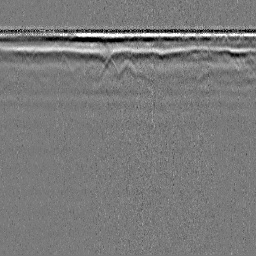cavity: (117, 58, 137, 75)
